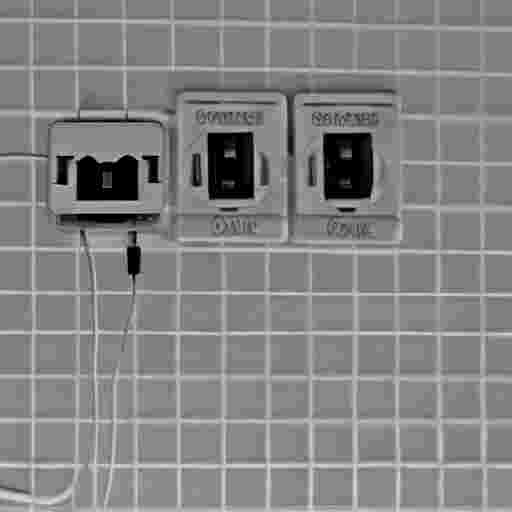power outlet: (49, 120, 165, 221)
